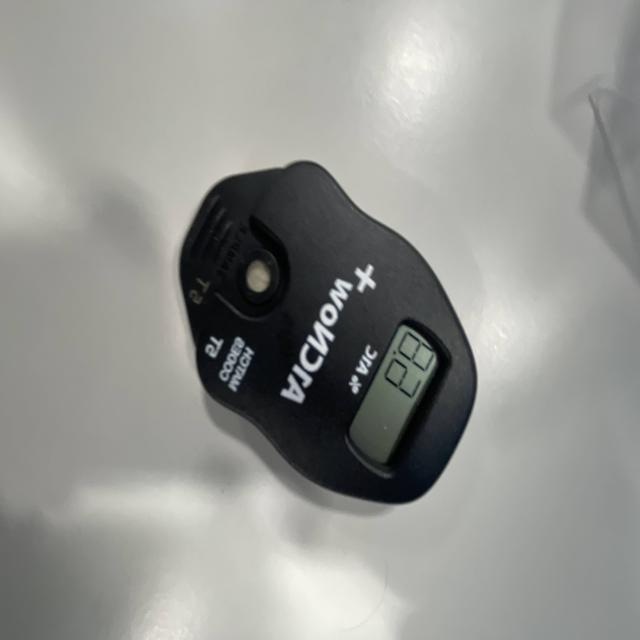hba1c: (178, 162, 479, 518)
